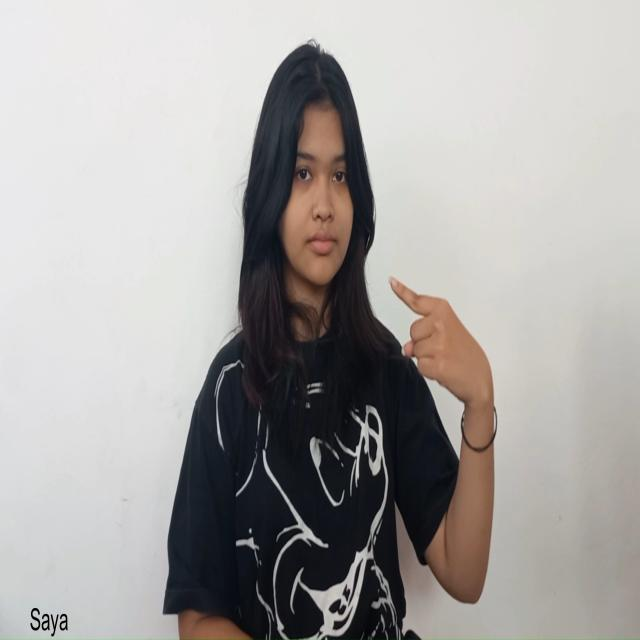Saya -BISINDO-: (385, 271, 497, 437)
